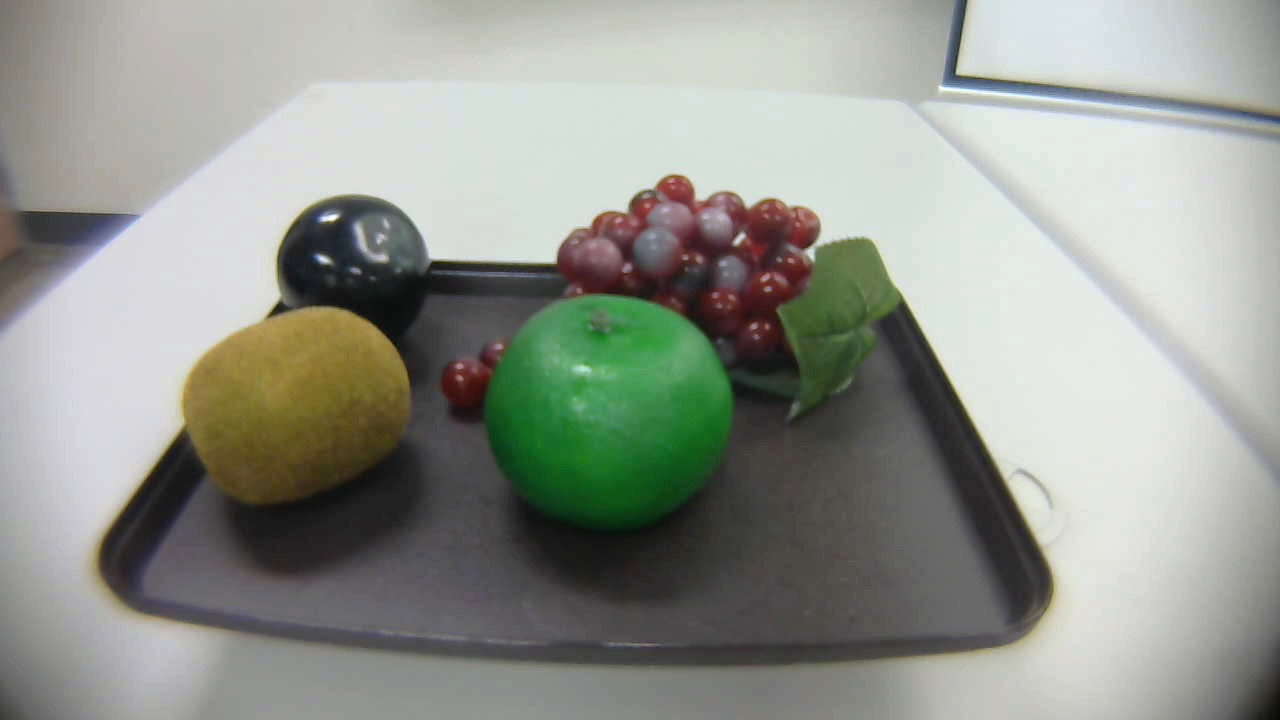grape: (443, 173, 903, 434)
green orange: (485, 289, 742, 534)
kiwi fruit: (180, 304, 425, 509)
mangosteen: (238, 179, 451, 340)
